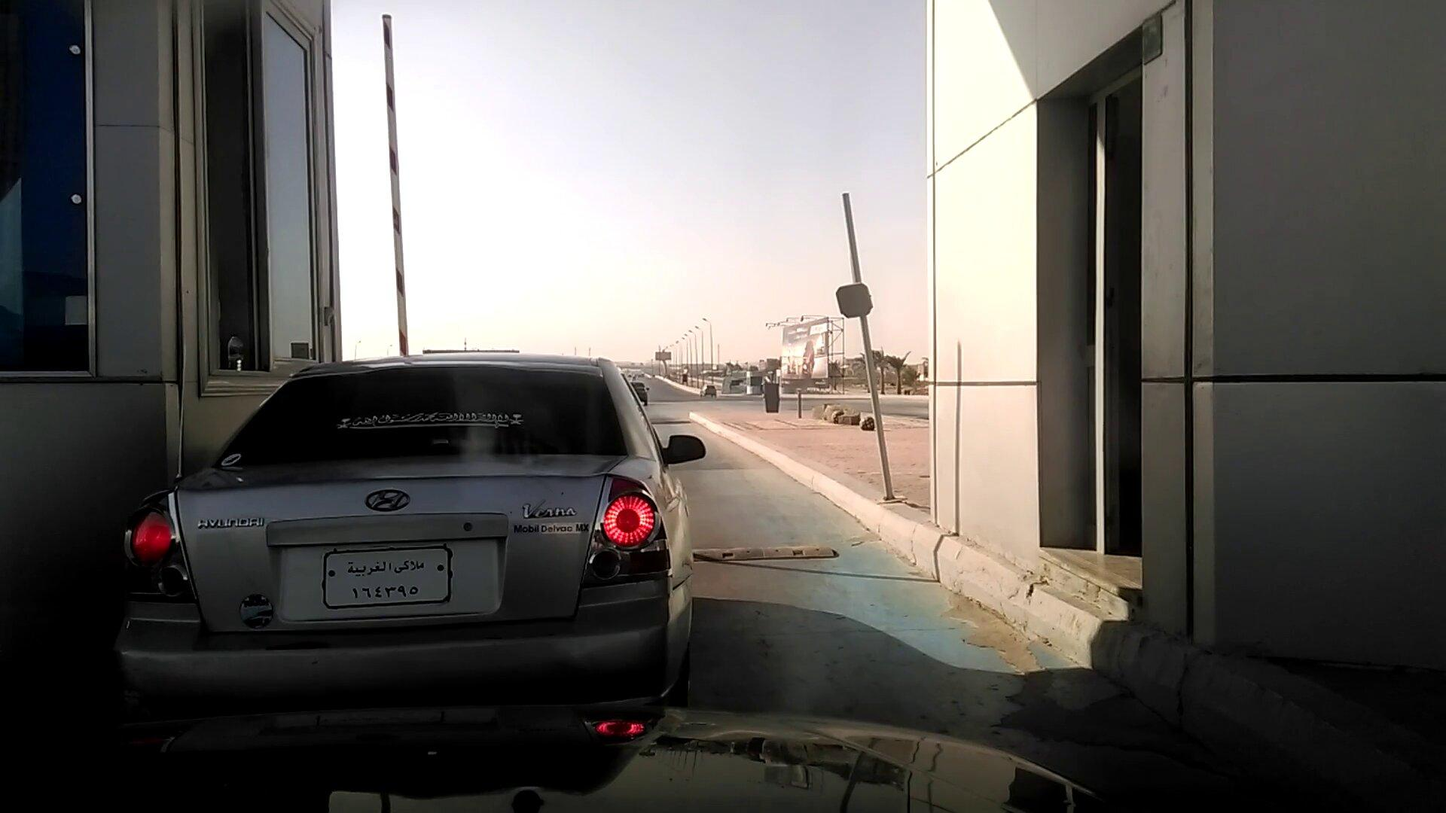Bump: (693, 543, 844, 569)
